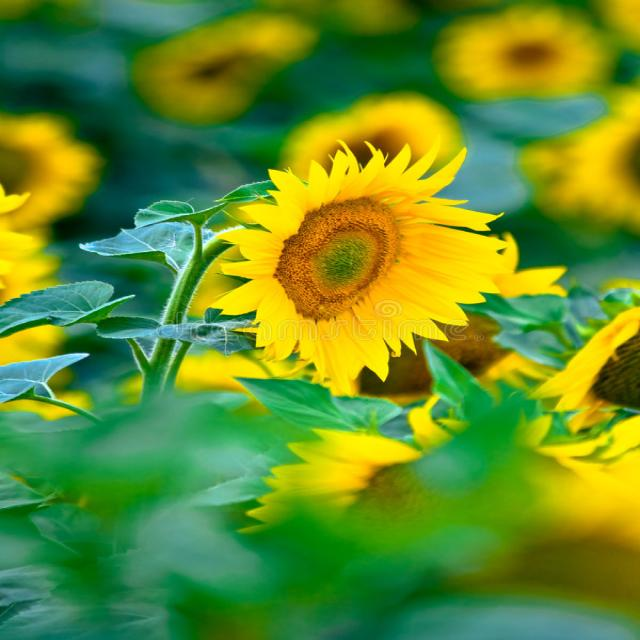sunflower: (190, 164, 518, 377), (436, 1, 618, 111), (286, 93, 467, 203)
